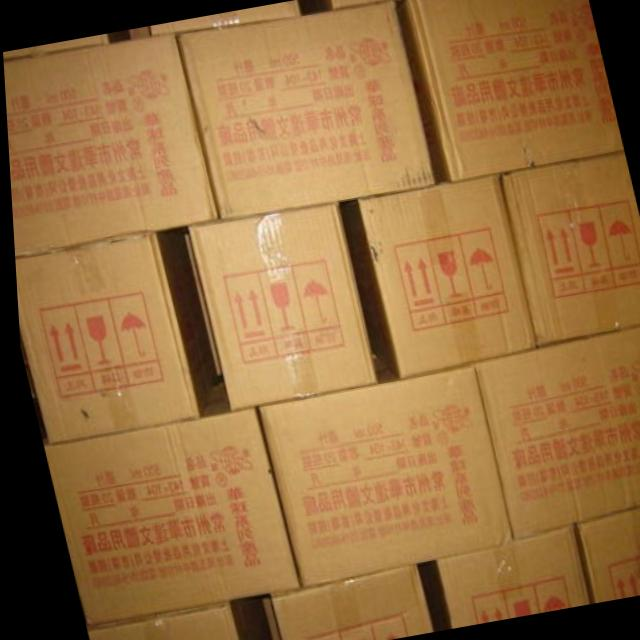box: (39, 376, 295, 627), (251, 350, 505, 587), (173, 0, 437, 222), (3, 32, 217, 256), (12, 229, 208, 443), (396, 0, 622, 180), (180, 203, 374, 412), (334, 173, 532, 377), (466, 323, 640, 542), (496, 151, 640, 349), (430, 523, 583, 626), (265, 563, 432, 640), (121, 0, 315, 40), (566, 503, 640, 602), (81, 600, 259, 640), (2, 34, 112, 61)
